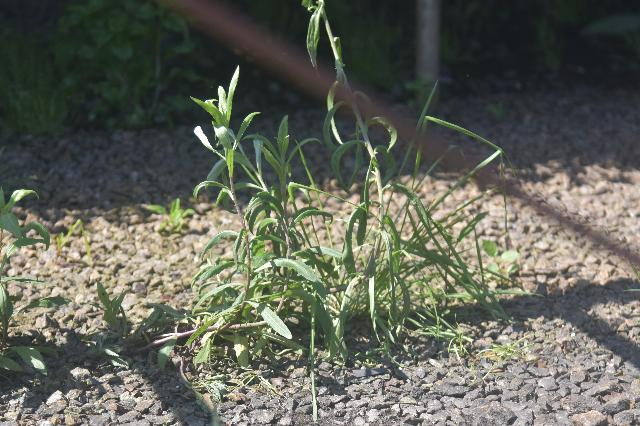MalezaMontesDelPlata: (295, 0, 521, 366), (162, 81, 316, 365), (0, 180, 49, 383), (74, 279, 164, 363), (152, 190, 197, 236)
